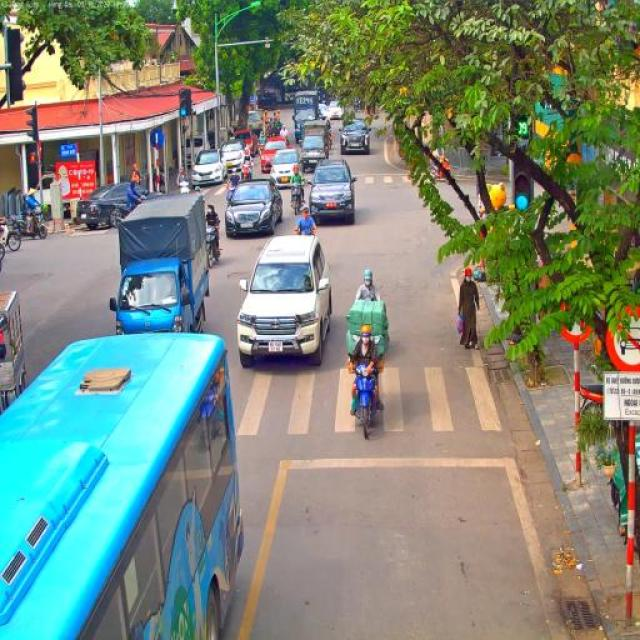bus: (0, 332, 245, 640)
car: (236, 233, 332, 368), (223, 178, 284, 238), (76, 182, 150, 229), (308, 157, 358, 225), (270, 148, 304, 191), (339, 112, 372, 154), (191, 150, 223, 188), (260, 136, 289, 173), (222, 138, 248, 174), (234, 129, 254, 156), (326, 100, 344, 120), (319, 102, 330, 119)
motorcycle: (348, 352, 382, 438), (429, 154, 455, 188), (27, 202, 49, 240), (0, 213, 21, 252), (204, 226, 220, 269), (290, 180, 305, 216), (242, 160, 253, 182), (226, 186, 237, 206), (258, 135, 266, 160), (176, 181, 190, 194), (294, 229, 317, 236), (327, 133, 334, 152)
truck: (108, 190, 211, 336), (0, 288, 26, 414), (298, 118, 330, 173), (292, 90, 322, 146), (244, 109, 264, 143)
